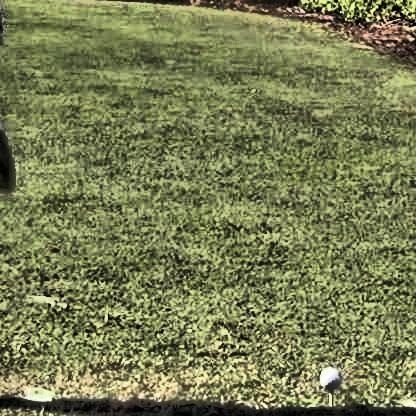golfball: (314, 362, 341, 387)
